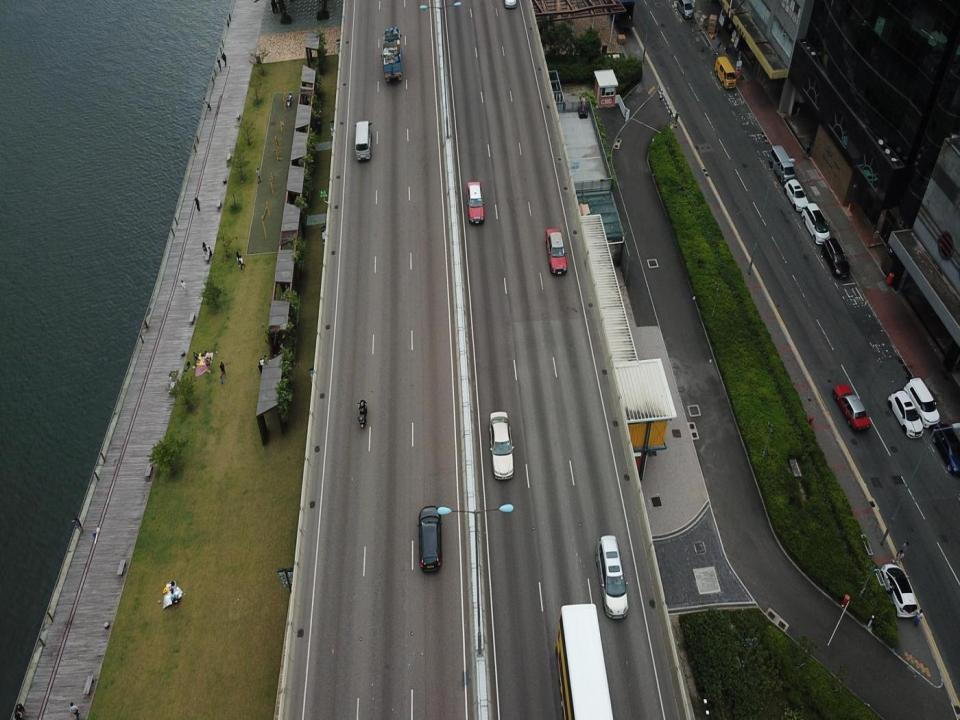bus: (552, 598, 616, 719)
car: (594, 534, 631, 618), (880, 560, 919, 620), (832, 381, 873, 436), (888, 388, 926, 441), (903, 374, 941, 426), (488, 411, 516, 481), (415, 505, 443, 572), (924, 423, 959, 475), (802, 202, 832, 246), (823, 236, 851, 282), (545, 226, 569, 277), (465, 181, 487, 226), (784, 179, 809, 212)
truck: (380, 28, 404, 83)
van: (771, 142, 797, 184), (352, 120, 374, 161), (713, 54, 737, 91), (676, 0, 695, 20)
